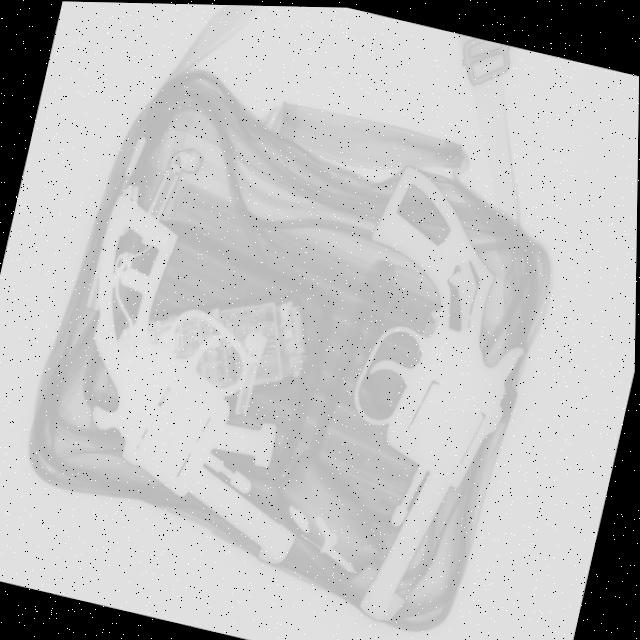pistol: (284, 154, 558, 639), (37, 189, 363, 568)
